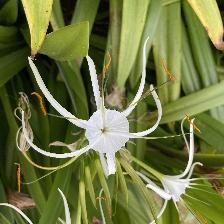spider lily: (64, 96, 155, 174)
